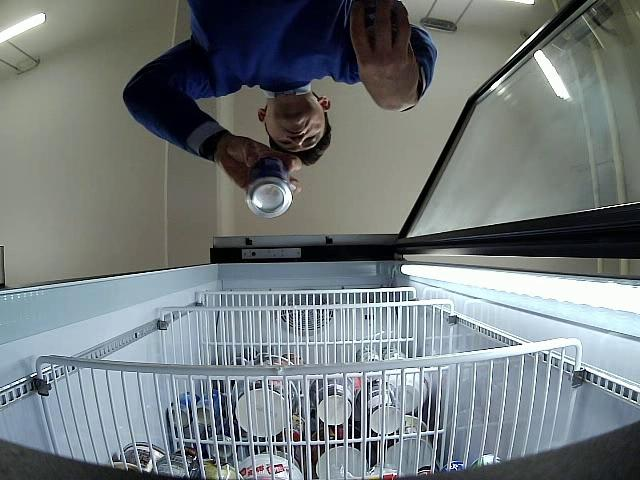00_hand: (350, 1, 419, 111), (217, 136, 302, 197)
14_welchsGrape: (247, 157, 293, 218)
